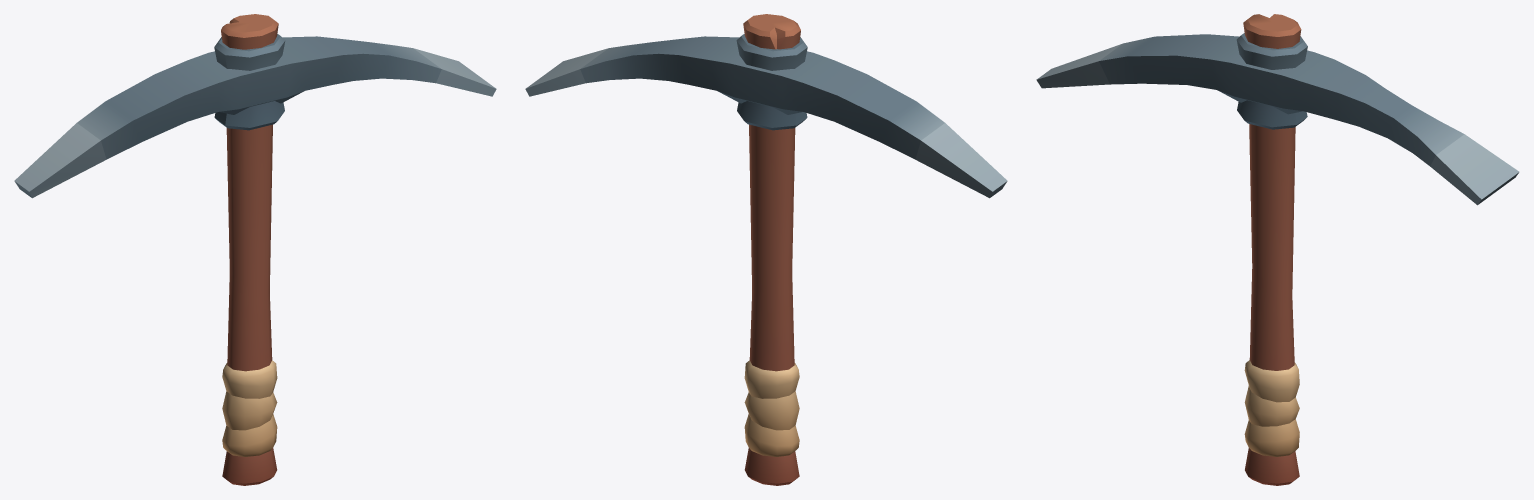
The model's file is prop_pickaxe.glb.
The picture shows the model from 3 angles, left to right: view 1: azimuth 30°, elevation 25°; view 2: azimuth 150°, elevation 25°; view 3: azimuth 330°, elevation 25°; orthographic projection.
Visible parts, largest first — view 1: pickaxe; view 2: pickaxe; view 3: pickaxe.
Part boxes in pixels (left/top/right/bottom): pickaxe: left=14, top=14, right=496, bottom=485; pickaxe: left=525, top=14, right=1007, bottom=485; pickaxe: left=1036, top=14, right=1519, bottom=485.
Bounding box in the file's own units: 1.45 × 1.39 × 0.2084.
Materials: 1 (1 with a texture image).
